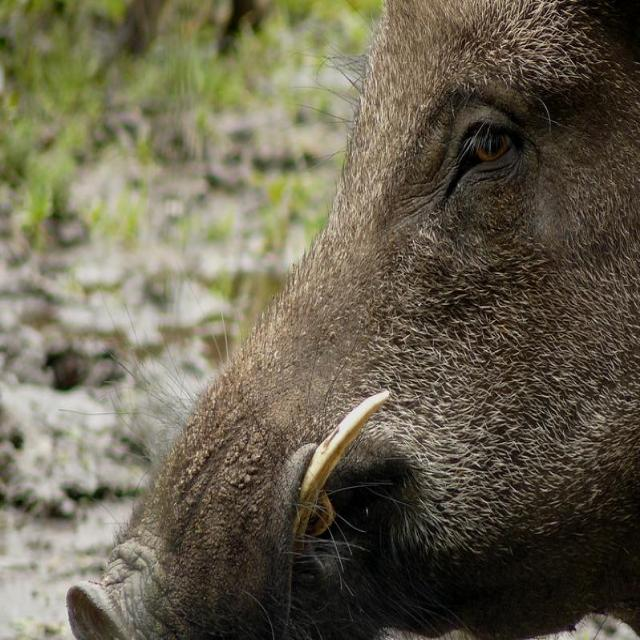pig: (68, 3, 640, 638)
